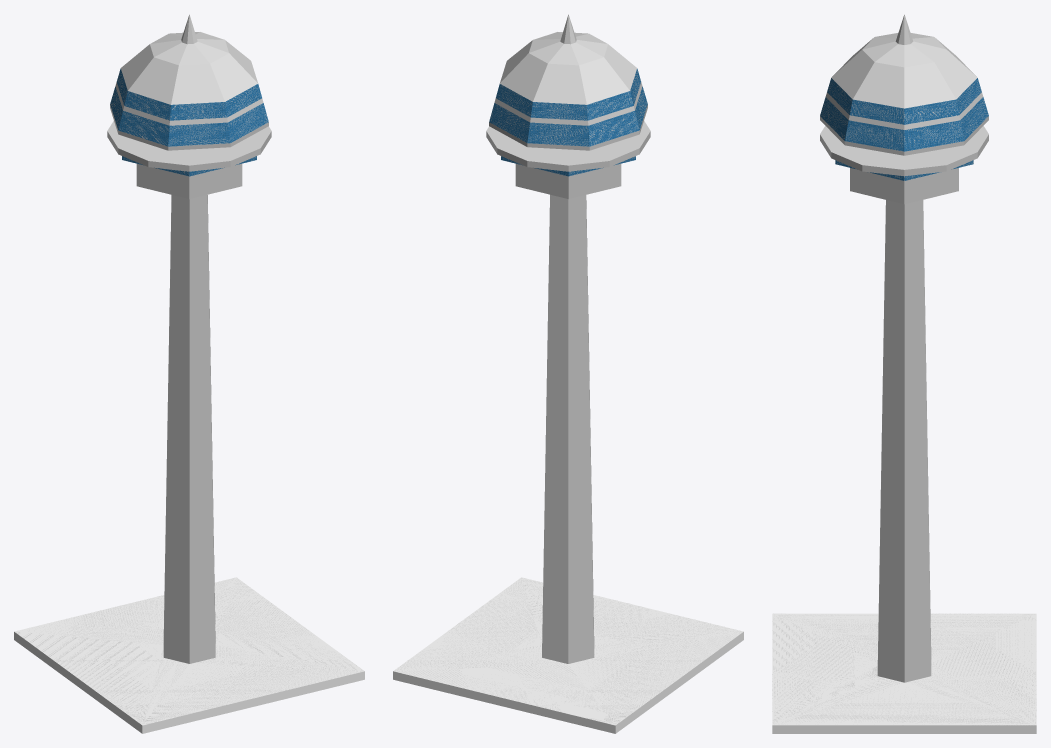
The model's file is atakule.dae.
3 renders of one model, left to right at view 1: azimuth 30°, elevation 25°; view 2: azimuth 150°, elevation 25°; view 3: azimuth 270°, elevation 25°, orthographic. The views are drawn at different scales.
Visible parts, largest first — view 1: group_0 (×10); view 2: group_0 (×11); view 3: group_0 (×10).
Boxes of the visible parts, <box> form: group_0 (×10): <box>14,14,364,733</box>; group_0 (×11): <box>393,14,743,733</box>; group_0 (×10): <box>772,14,1036,733</box>.
Size of the model in its own units: 134 by 134 by 371.
3 materials, 2 textured.
